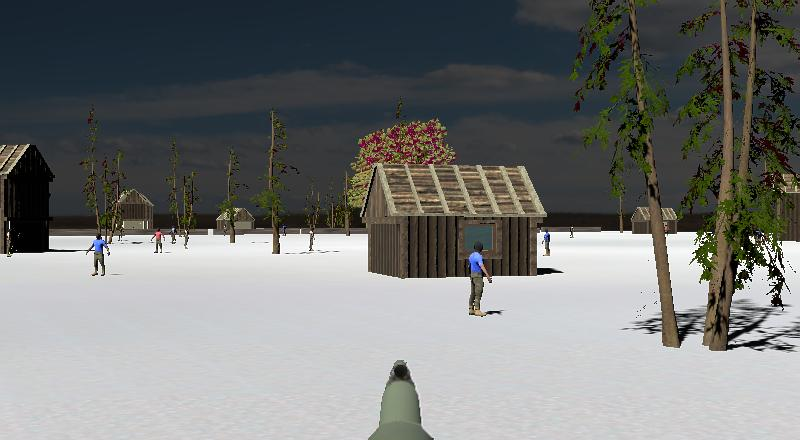House: (335, 145, 561, 302), (0, 127, 66, 266), (110, 181, 161, 240), (212, 202, 261, 239)
Human: (453, 236, 505, 329), (82, 227, 116, 283), (147, 223, 169, 259), (537, 224, 557, 262)
